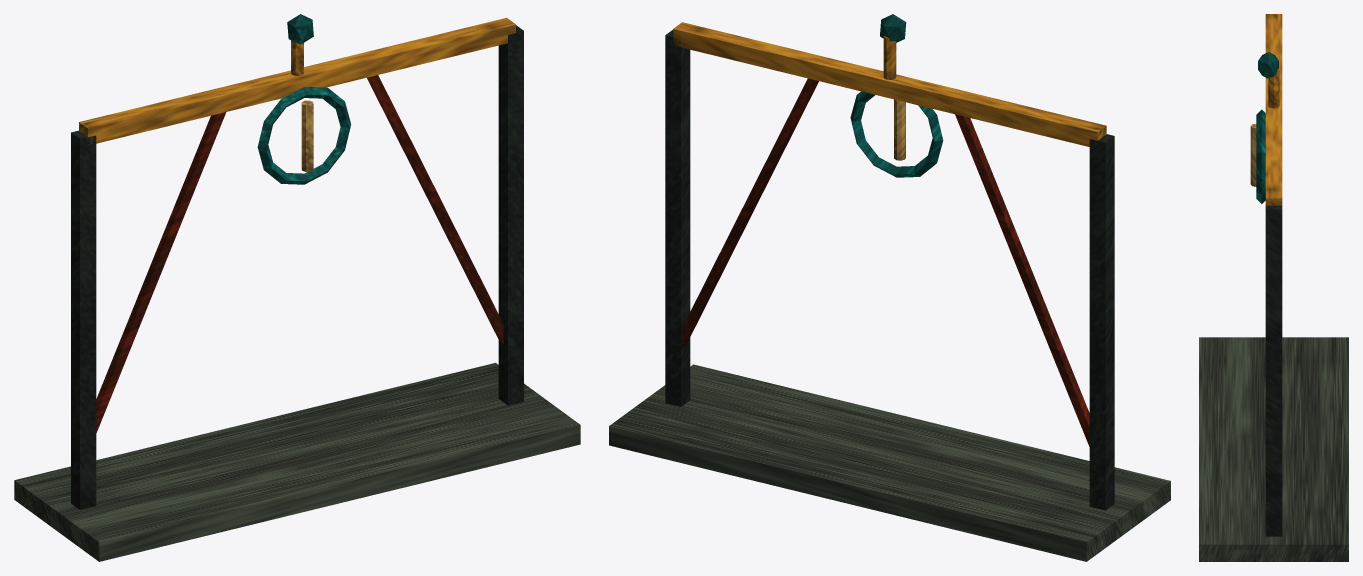
Rendered from rush-relay-r1-frame.glb.
3 renders of one model, left to right at view 1: azimuth 30°, elevation 25°; view 2: azimuth 150°, elevation 25°; view 3: azimuth 270°, elevation 25°, orthographic. The views are drawn at different scales.
Parts seen in each view (by area): view 1: rush-relay-r1-frame; view 2: rush-relay-r1-frame; view 3: rush-relay-r1-frame.
Boxes of the visible parts, x1,y1,x2,y2 form: rush-relay-r1-frame: [14, 14, 580, 561]; rush-relay-r1-frame: [609, 14, 1170, 561]; rush-relay-r1-frame: [1199, 14, 1348, 561].
Bounding box in the file's own units: 7.2 × 6.58 × 2.2.
1 material, 1 textured.
